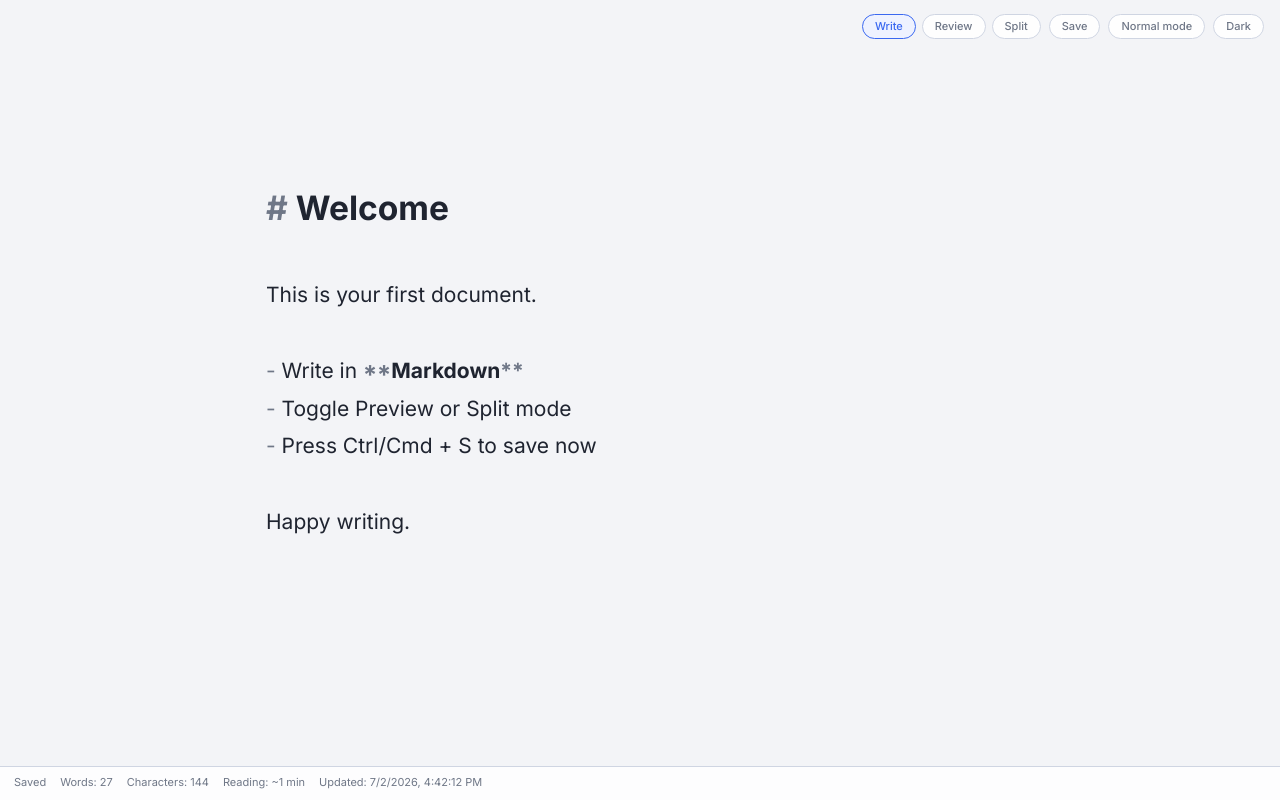
App — document management › renames a document
The image size is (1280, 800).
Click the button "Normal mode": (1157, 26) [1108, 14, 1205, 39]
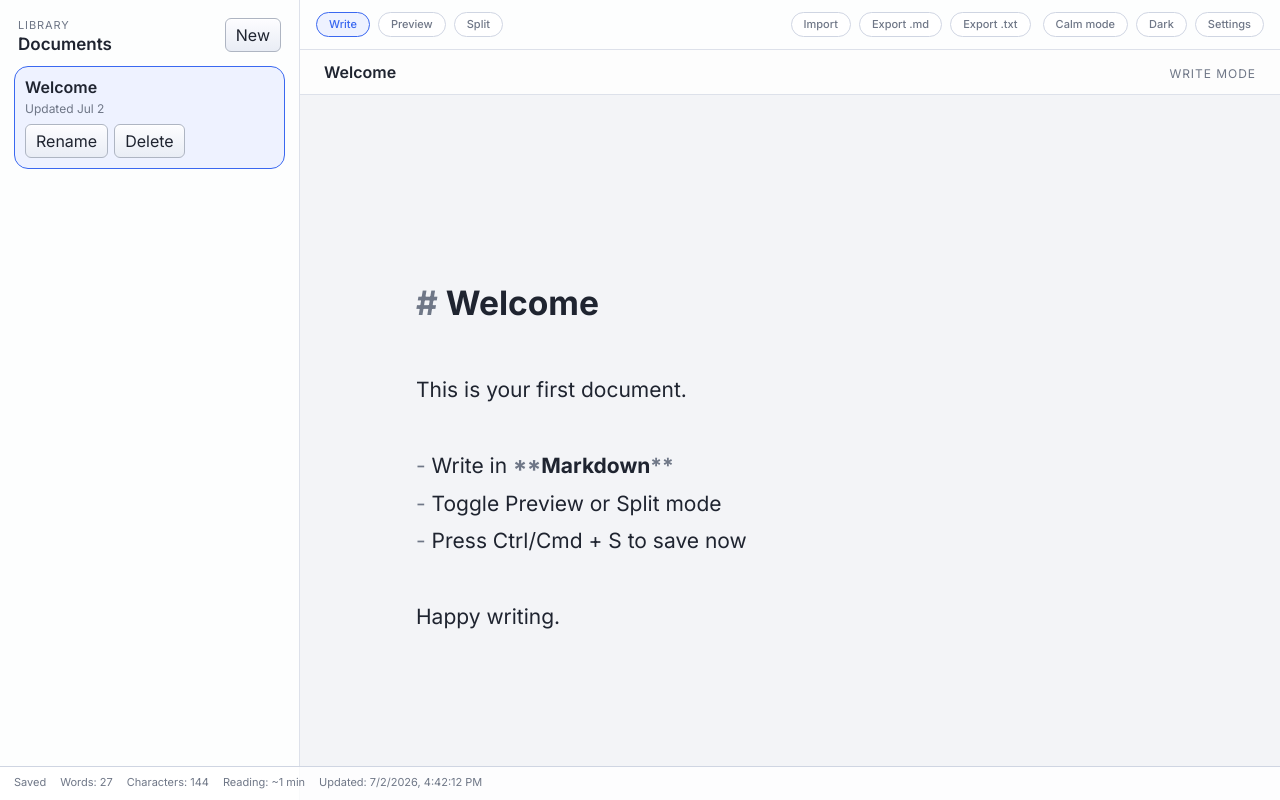
Click the button "Rename": (67, 141) [25, 124, 108, 158]
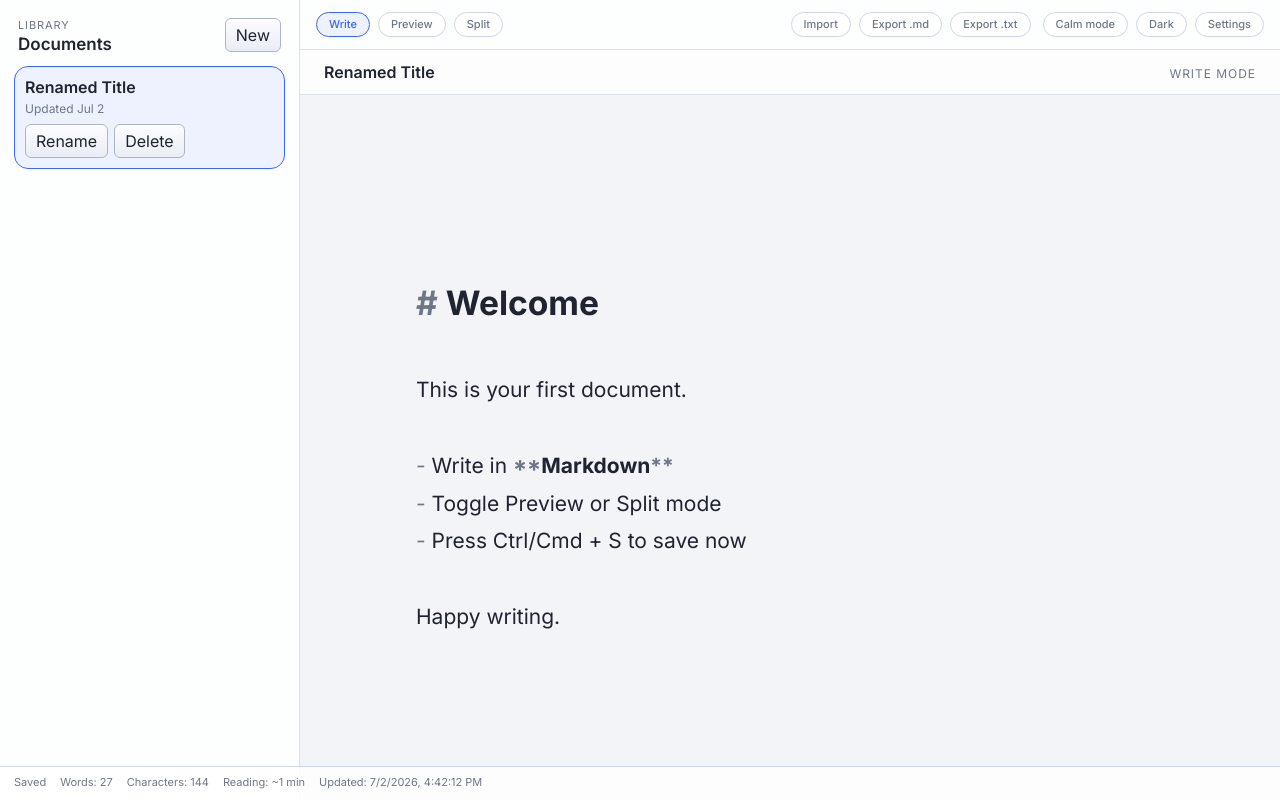
Result: the heading "Renamed Title" is shown at [324, 62, 435, 82]
